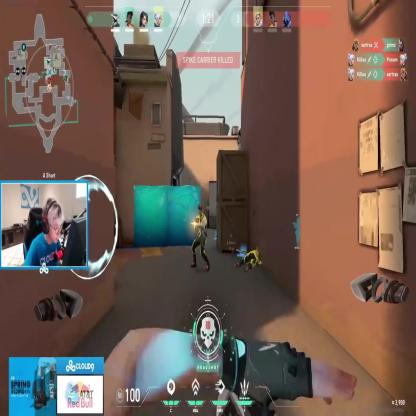enemy: (190, 204, 210, 271)
enemy_head: (198, 205, 203, 218)
